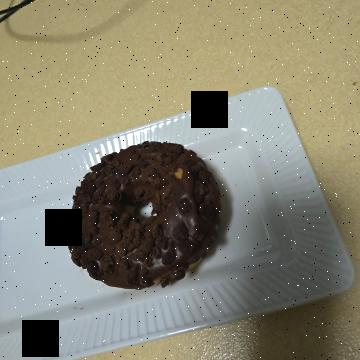doughnut: (126, 131, 314, 308)
